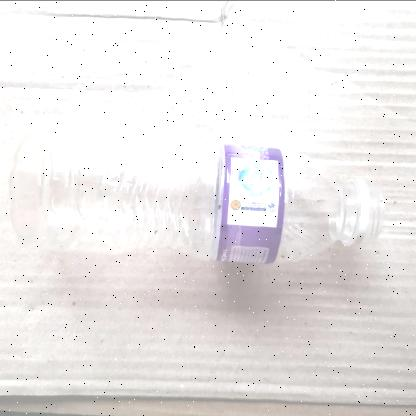Plastic Bottle: (7, 132, 383, 260)
